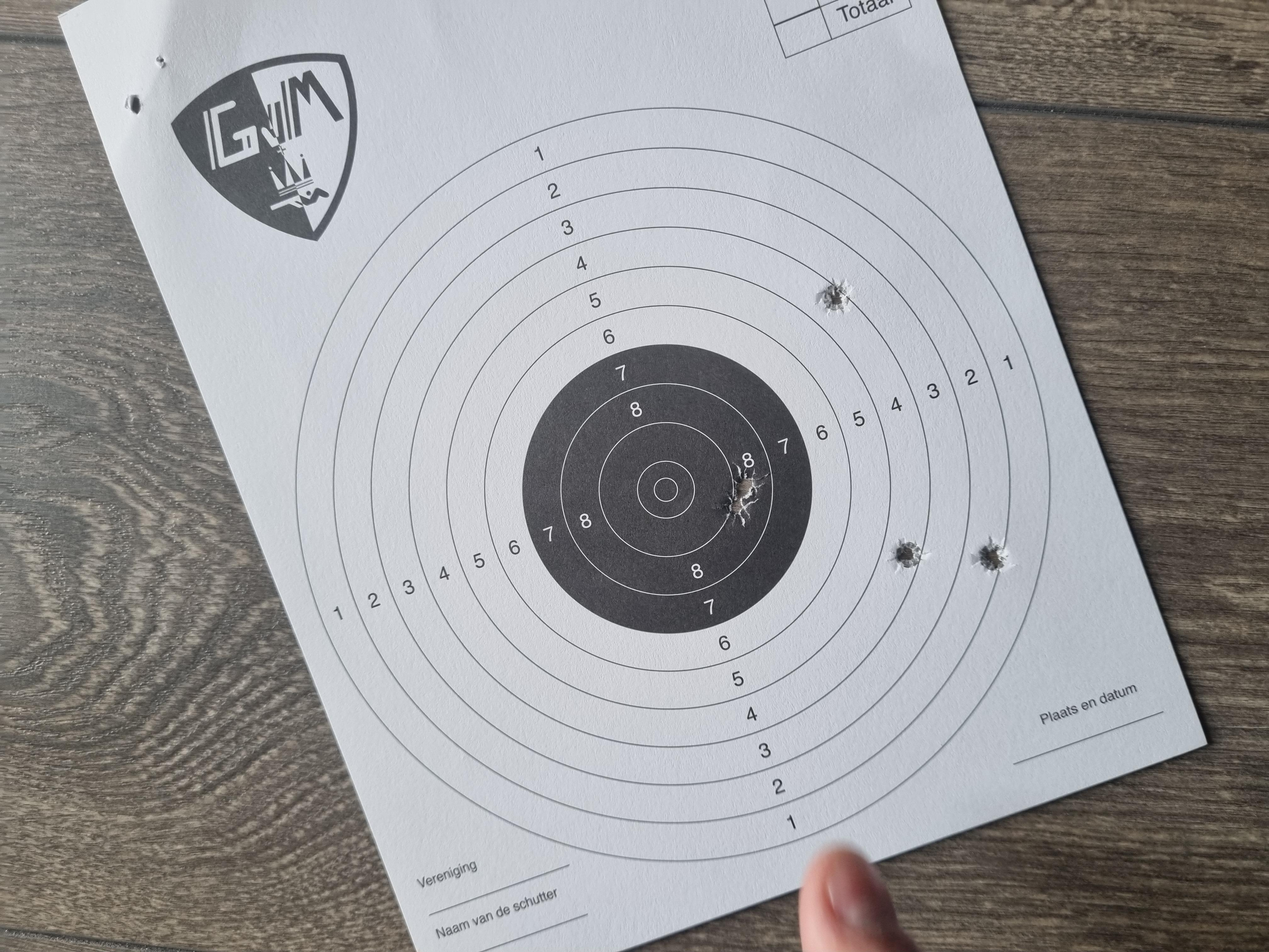hole: (848, 612, 899, 639), (606, 547, 648, 576), (507, 733, 553, 758), (511, 666, 551, 692), (567, 542, 607, 563)
